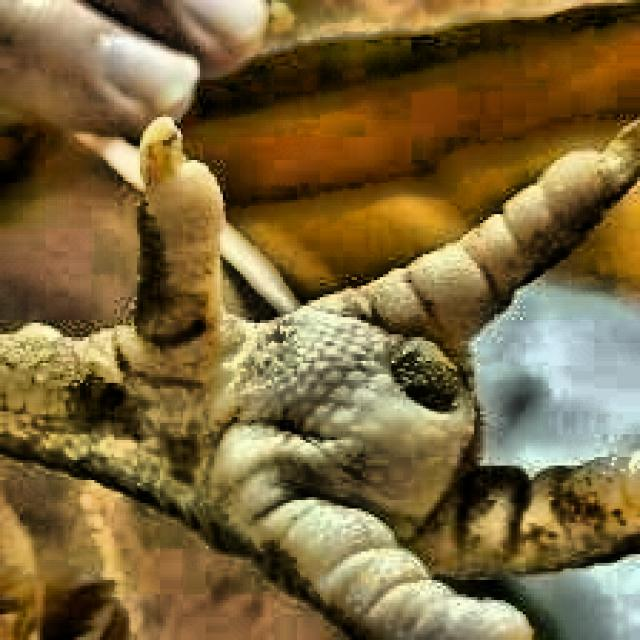Bumble foot: (225, 279, 506, 524)
